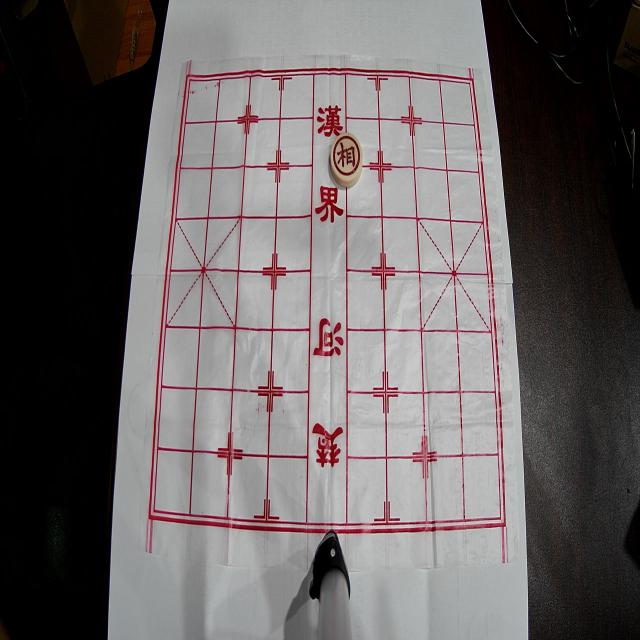red-elephant: (330, 133, 362, 187)
